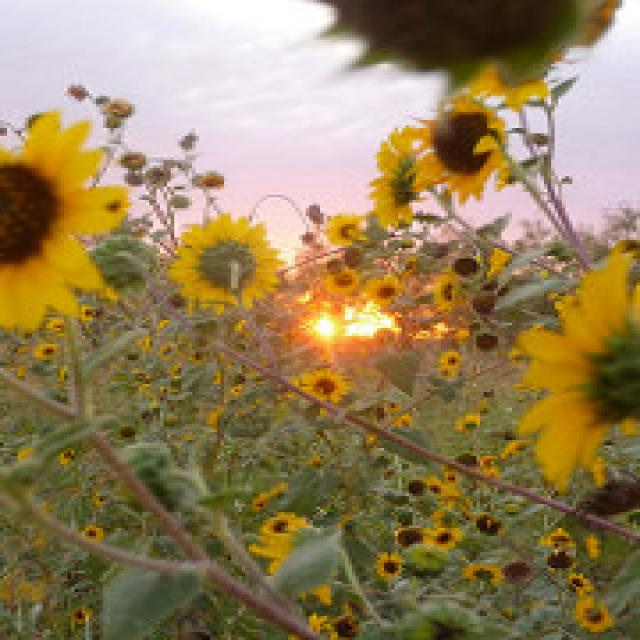sunflower: (516, 248, 640, 498), (0, 119, 114, 348), (160, 209, 284, 319), (411, 98, 506, 210), (363, 127, 427, 235), (254, 506, 304, 546), (297, 372, 350, 407), (329, 210, 364, 250), (569, 599, 608, 633), (365, 281, 407, 311), (420, 524, 466, 551), (377, 553, 405, 580), (441, 348, 462, 383)
